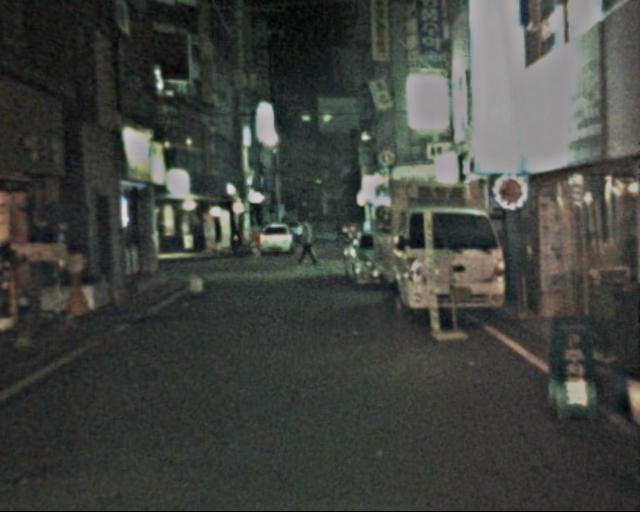person: (291, 217, 318, 273)
